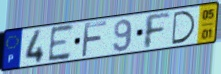4: (24, 28, 46, 65)
9: (111, 18, 134, 53)
D: (171, 10, 197, 46)
E: (47, 23, 75, 64)
F: (143, 12, 172, 51), (80, 20, 108, 59)
